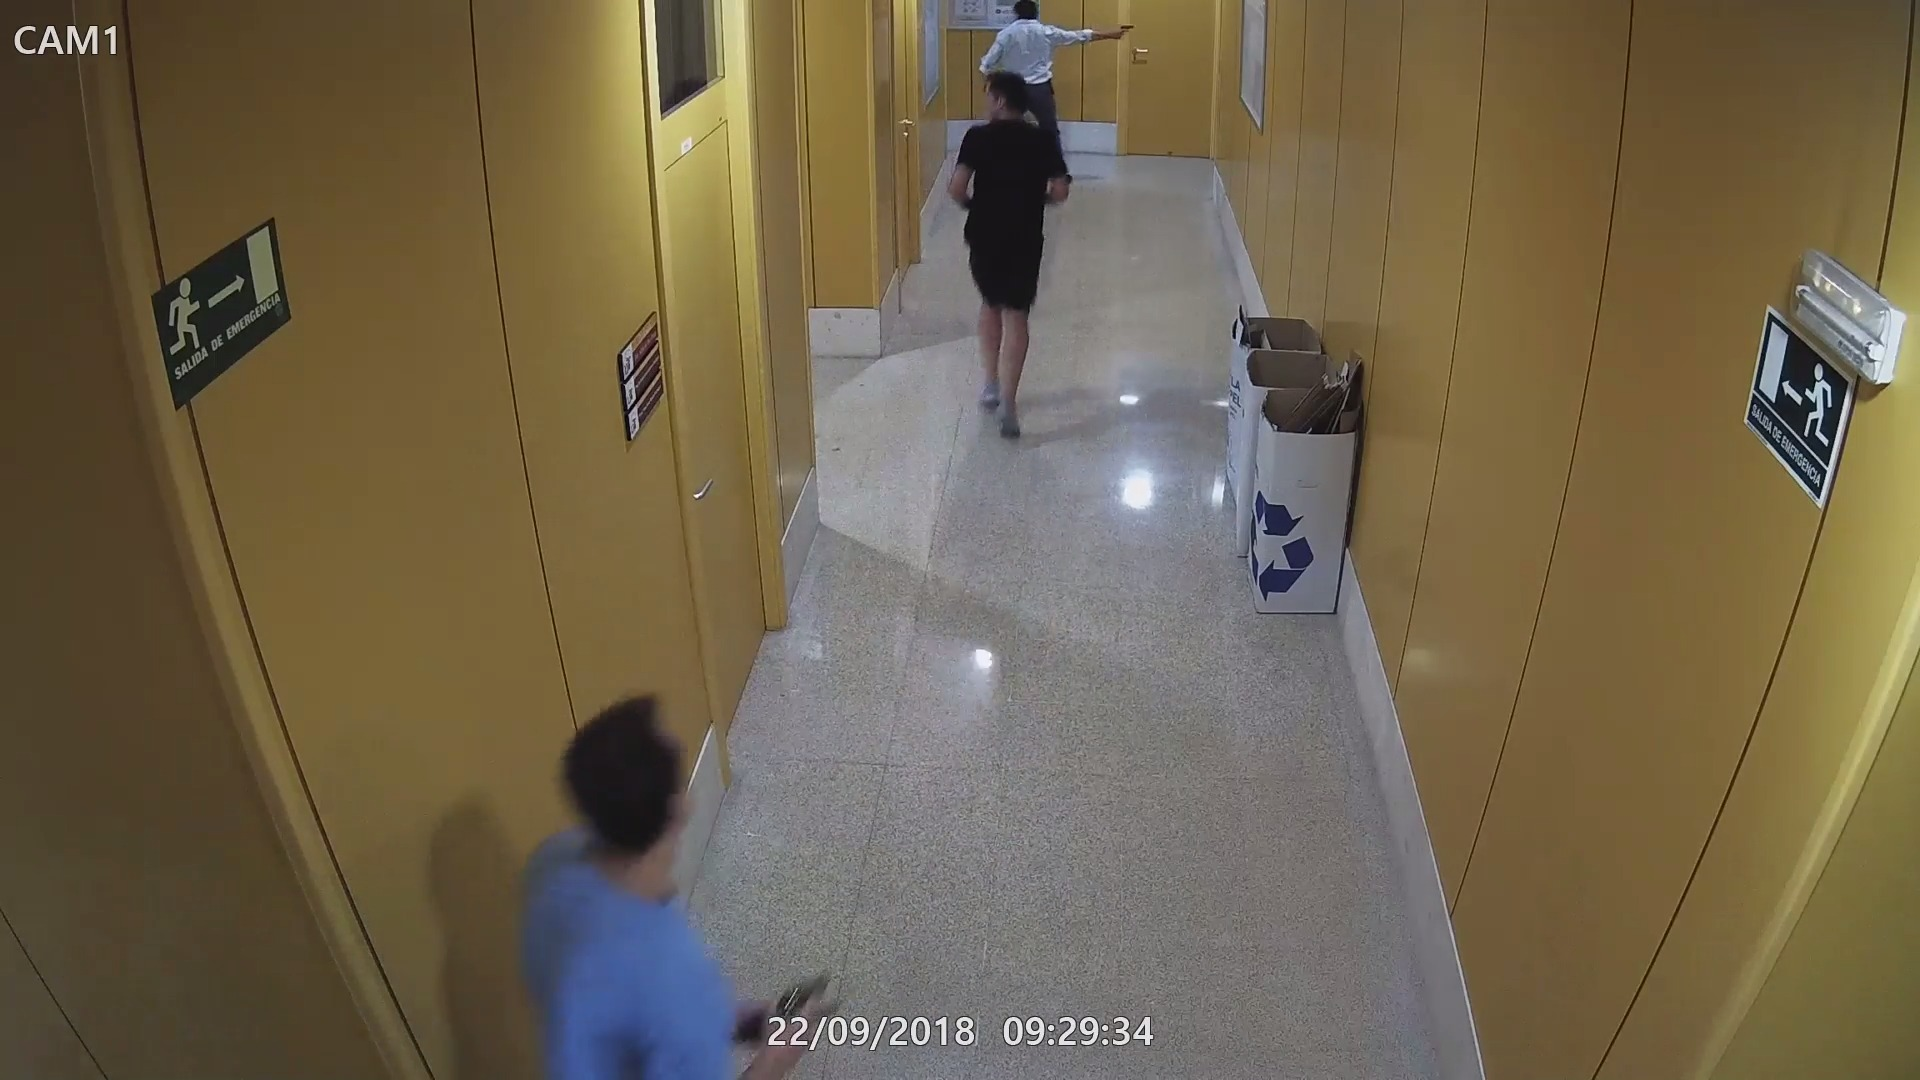Handgun: (749, 960, 835, 1021), (1106, 18, 1135, 45)
